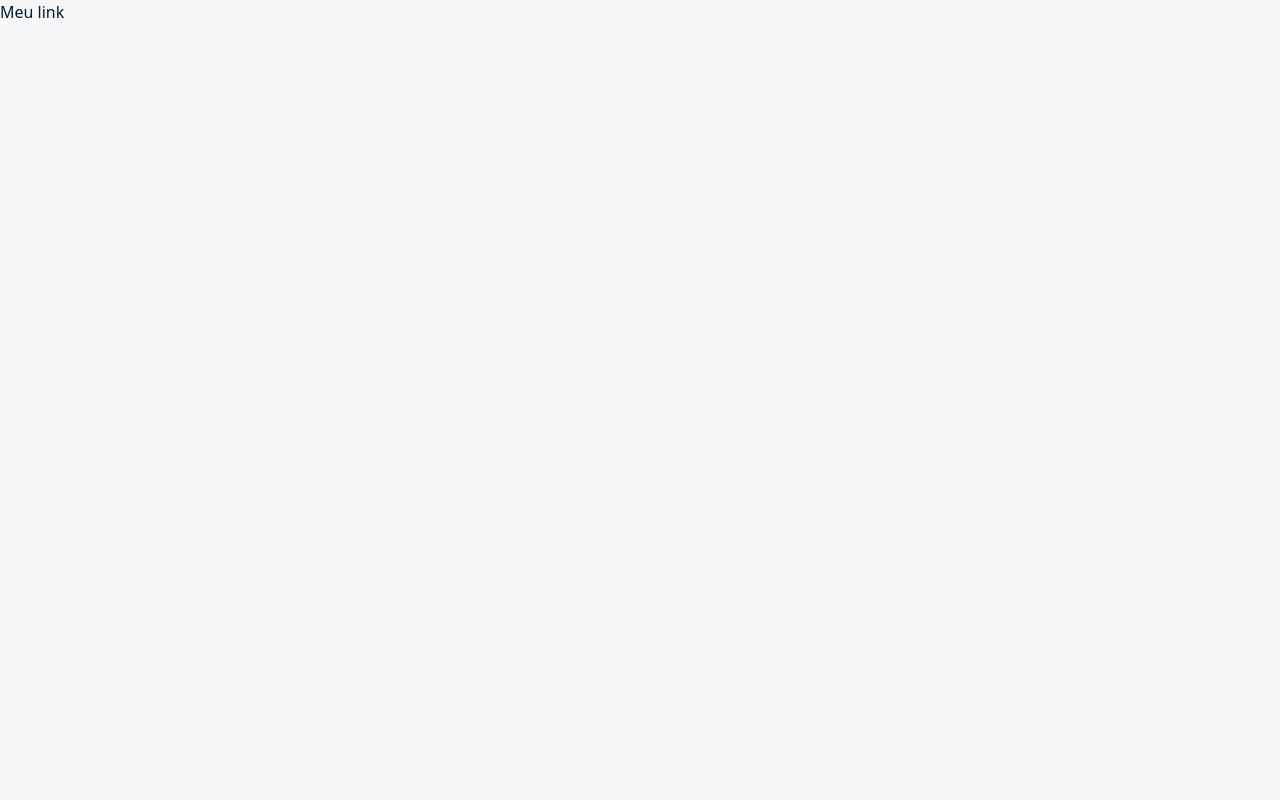
Scenario: LinkAgendamentoDialog › com links: o WhatsApp leva o convite com o local
This screenshot has width=1280, height=800.
Click the button "Meu link" at (32,12), box [0,0,64,24]
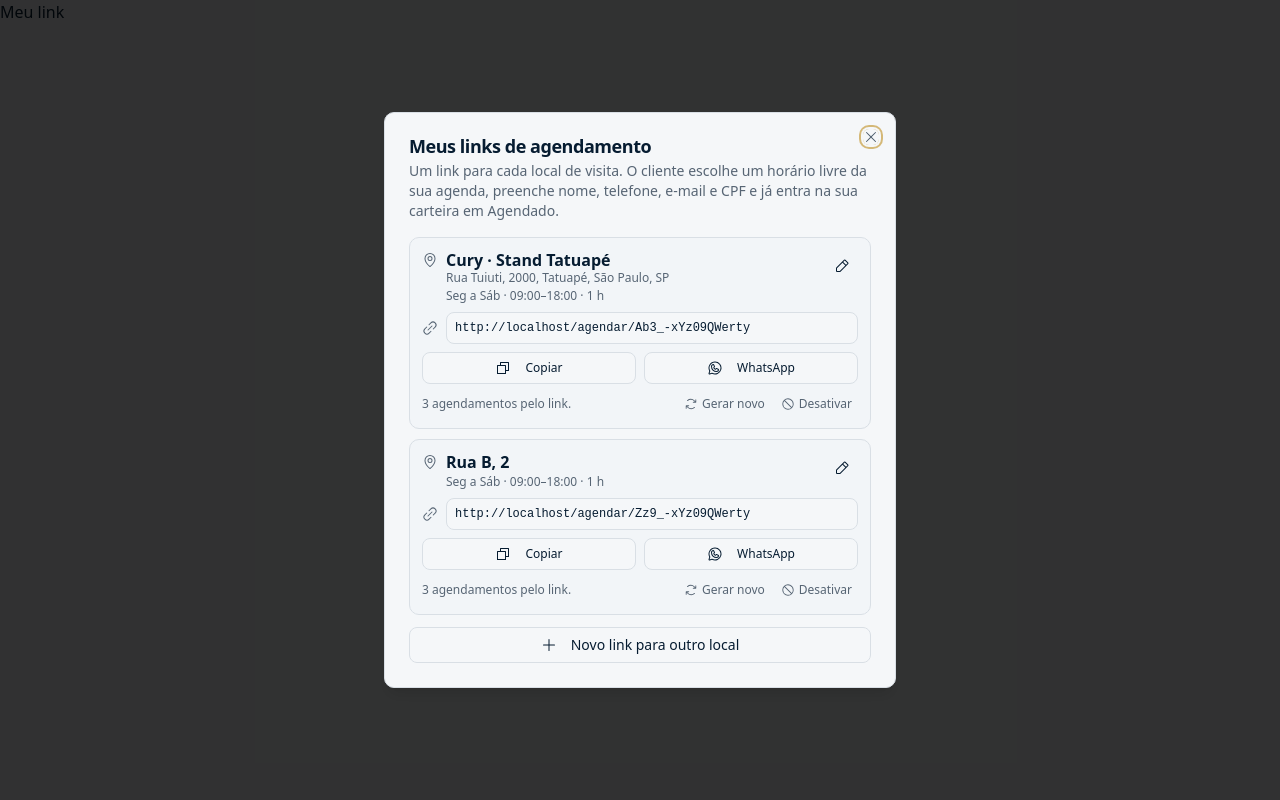
expect the text "3 agendamentos pelo link." below "Cury · Stand Tatuapé" is shown: met, box [422,395,571,412]
expect the list item "Rua B, 2" is shown: met, box [409,439,871,615]
